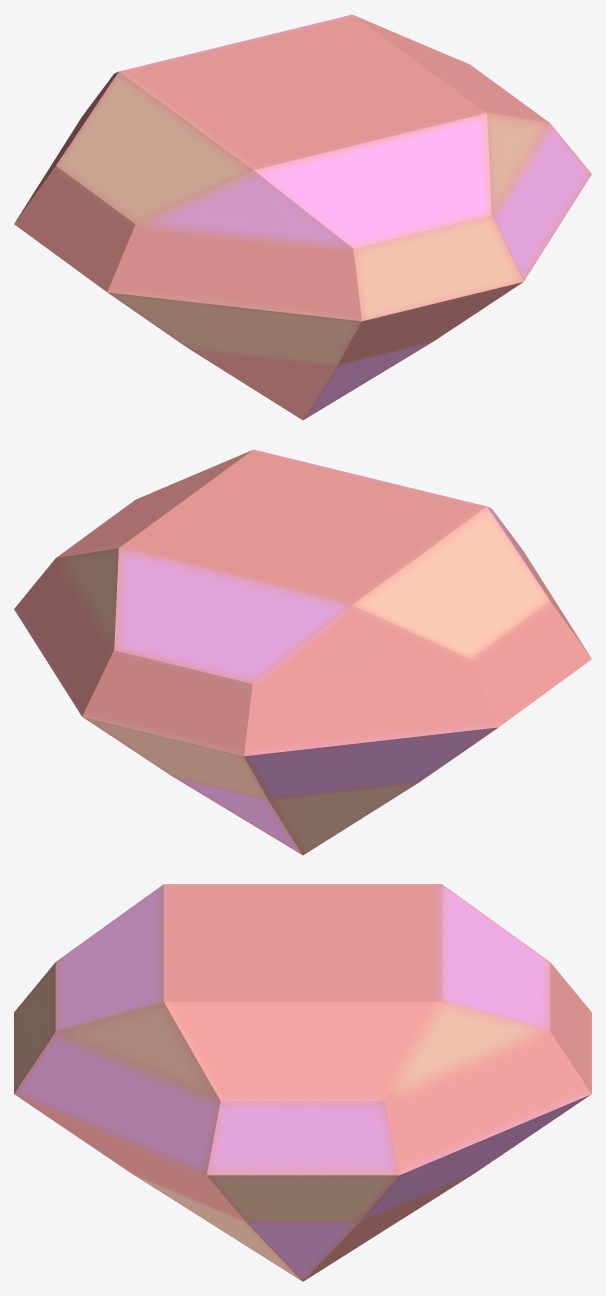
File: pedra lapidada.fbx
The picture shows the model from 3 angles, top to bottom: view 1: azimuth 30°, elevation 25°; view 2: azimuth 150°, elevation 25°; view 3: azimuth 270°, elevation 25°; orthographic projection. The views are drawn at different scales.
Parts seen in each view (by area): view 1: Cube.001; view 2: Cube.001; view 3: Cube.001.
Part boxes in pixels (box(x1,y1,x2,y2)): Cube.001: box(14, 14, 591, 420); Cube.001: box(14, 449, 591, 855); Cube.001: box(14, 884, 591, 1281).
Size of the model in its own units: 200 by 130 by 200.
